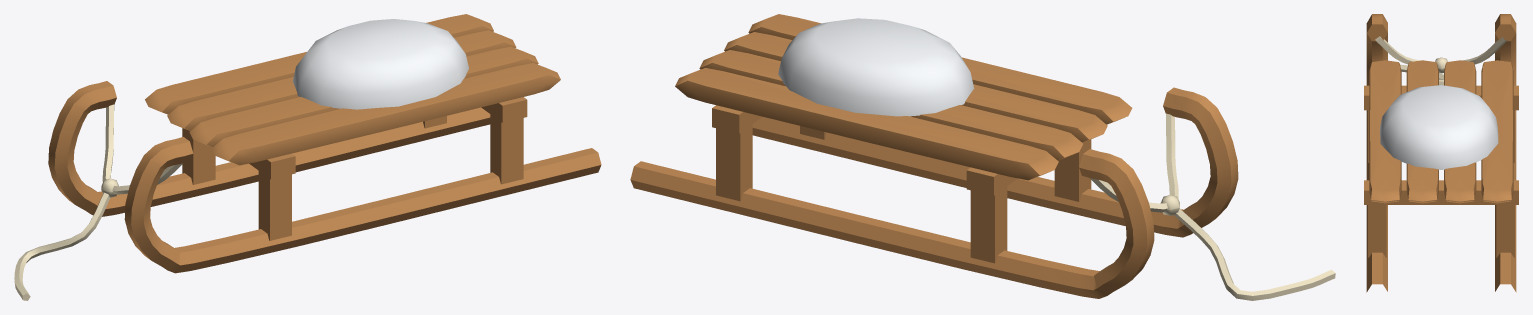
Rendered from WoodenSled.glb.
3 views of the same model, side by side, from view 1: azimuth 30°, elevation 25°; view 2: azimuth 150°, elevation 25°; view 3: azimuth 270°, elevation 25° (orthographic). The views are drawn at different scales.
Parts seen in each view (by area): view 1: WoodenSled; view 2: WoodenSled; view 3: WoodenSled.
Part boxes in pixels (bbox=[...]): WoodenSled: bbox=[14, 14, 601, 300]; WoodenSled: bbox=[630, 14, 1335, 300]; WoodenSled: bbox=[1364, 14, 1518, 292].
Size of the model in its own units: 10.26 by 2.61 by 2.9.
1 material, 1 textured.
